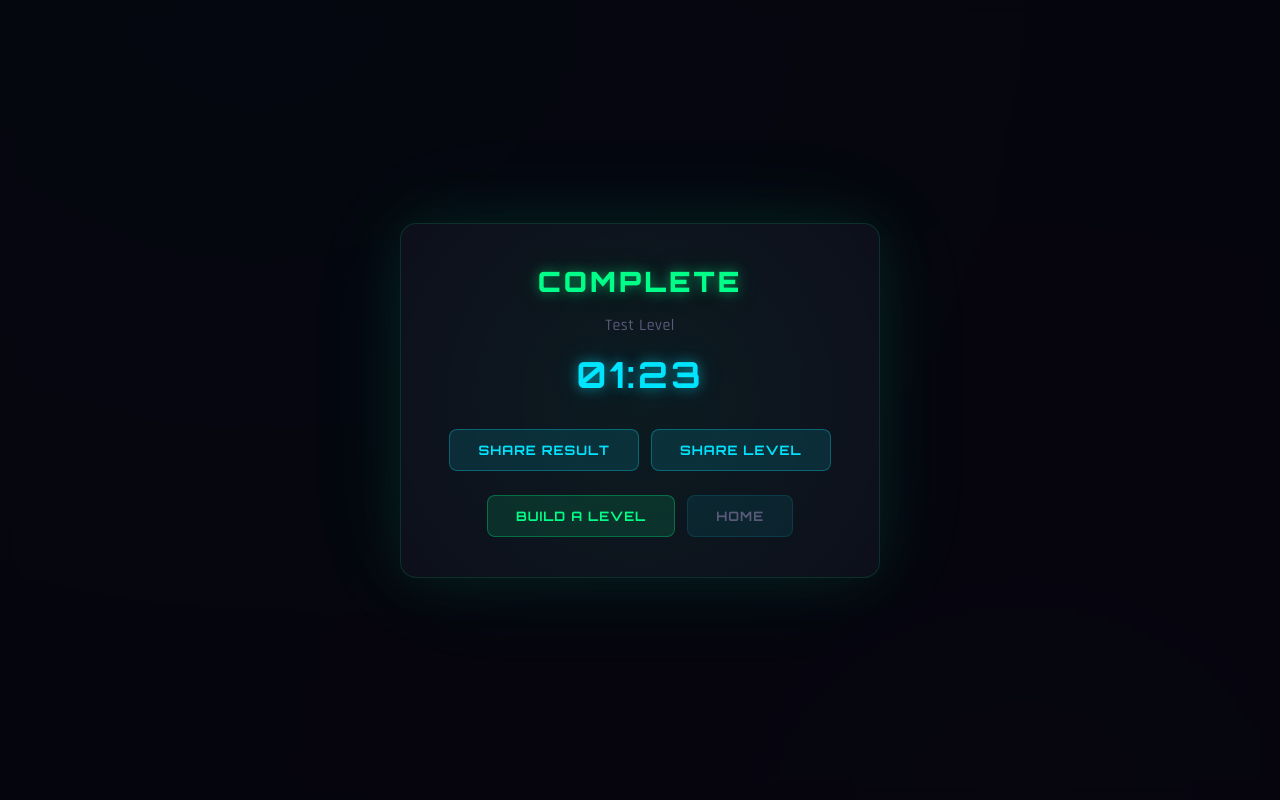
WinModal › Share button behavior (clipboard fallback) › shows "Copied!" after click
Click the button "Share Result". click: [544, 450]
box: top-left (450, 428), bottom-right (639, 470)
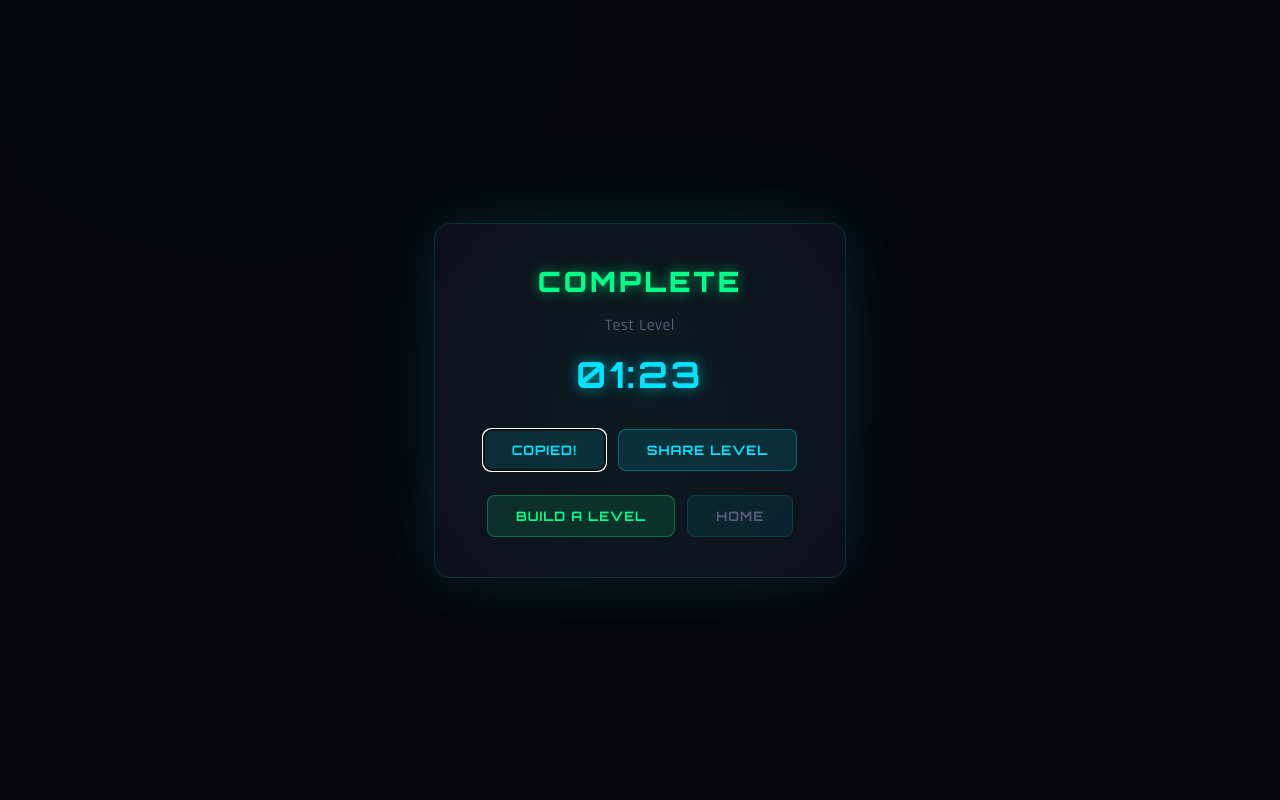
Result: the button "Copied!" is shown at top-left (483, 428), bottom-right (606, 470)
